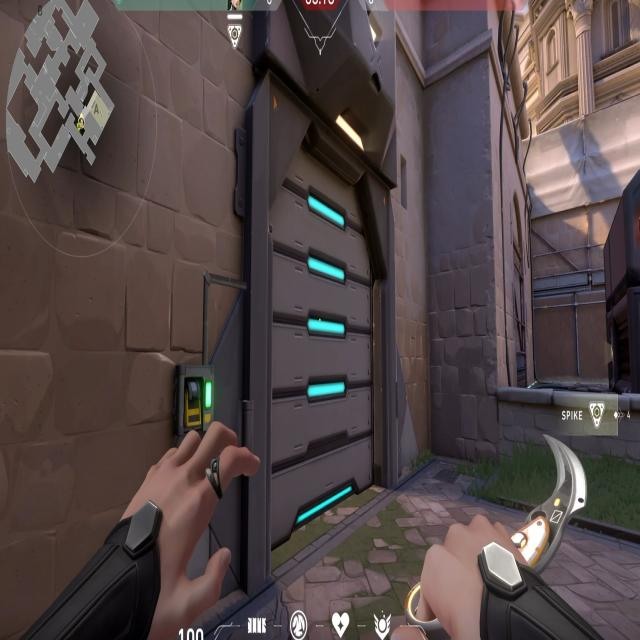A_Door: (263, 64, 388, 512)
